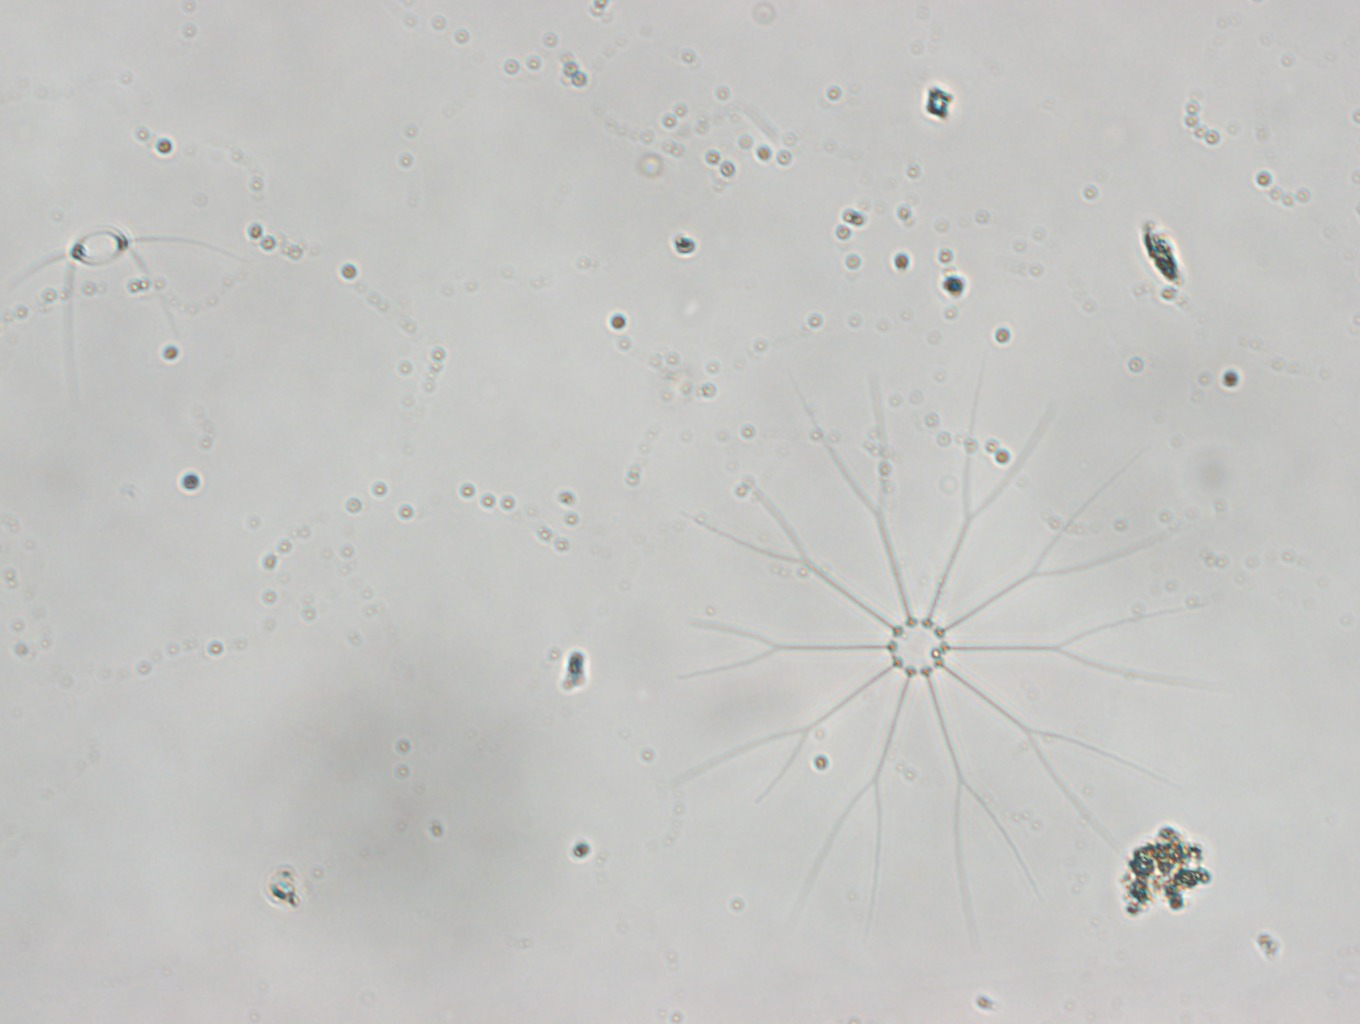bacteriastrum: (665, 352, 1208, 936)
chaetoceros: (8, 227, 243, 386)
